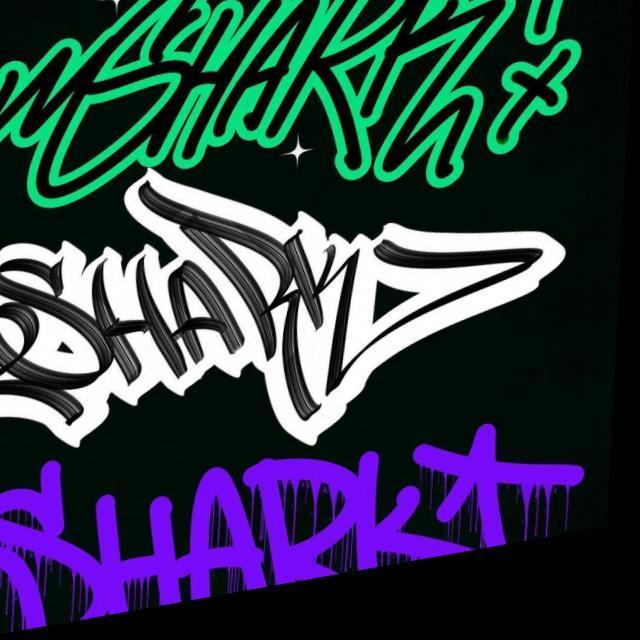-: (0, 117, 597, 493), (0, 0, 594, 289), (0, 375, 621, 640)
